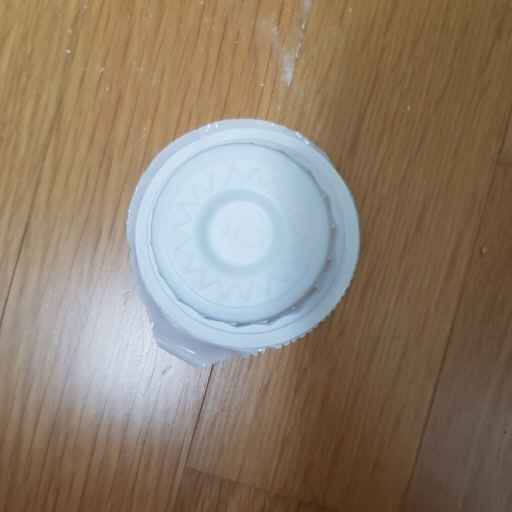Plastic_5: (124, 119, 363, 373)
